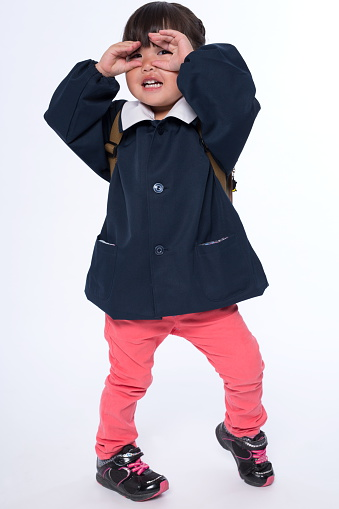em pe: (68, 0, 268, 487)
